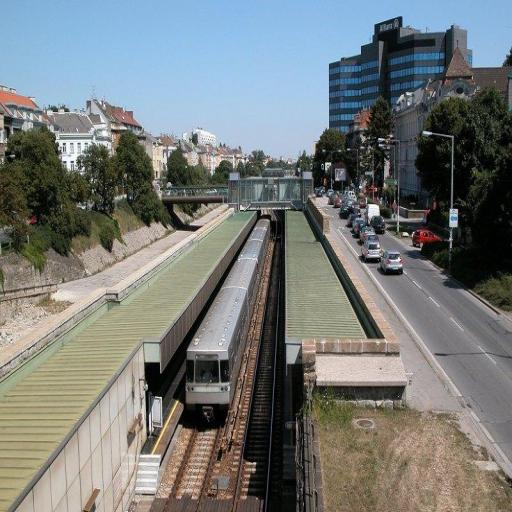Silberpfeil: (184, 215, 272, 414)
